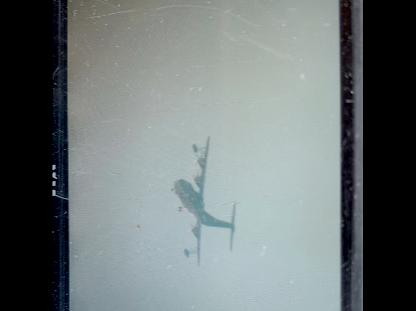Tu95: (172, 136, 237, 267)
